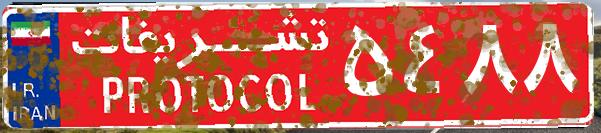4: (400, 20, 460, 115)
5: (340, 20, 400, 115)
8: (460, 20, 520, 115), (520, 20, 580, 115)
تشریفات: (60, 8, 340, 125)
